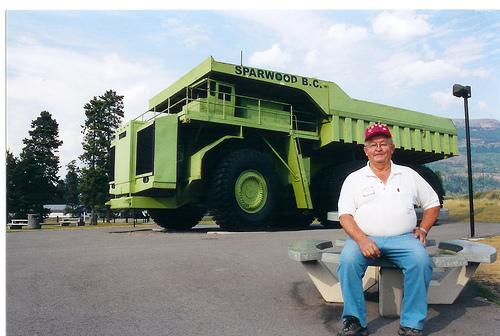truck: (105, 49, 461, 232)
